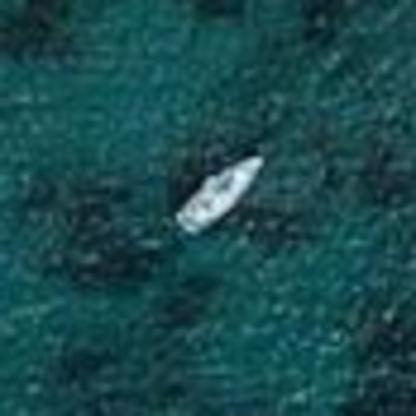ship: (166, 148, 271, 241)
